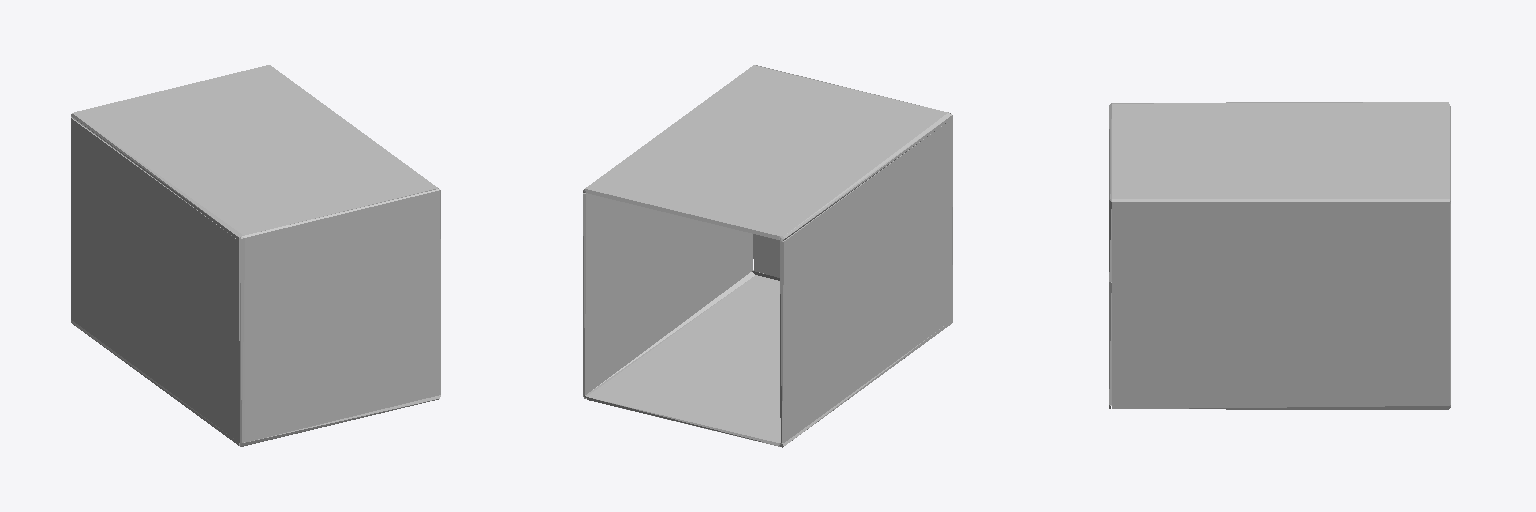
The model's file is bedside_table.obj.
The picture shows the model from 3 angles: view 1: azimuth 30°, elevation 25°; view 2: azimuth 150°, elevation 25°; view 3: azimuth 270°, elevation 25°; orthographic projection.
Visible parts, largest first — view 1: convex_10, convex_3, convex_4, convex_1, convex_7, convex_5, convex_2, convex_0, convex_11; view 2: convex_10, convex_3, convex_6, convex_12, convex_5, convex_7, convex_8, convex_11; view 3: convex_6, convex_3, convex_9, convex_8, convex_5, convex_4.
Part boxes in pixels (x1,y1,x2,y2): convex_10: (71,117,239,441); convex_3: (76,65,435,235); convex_4: (244,189,440,318); convex_1: (245,295,344,442); convex_7: (345,272,440,417); convex_5: (71,112,243,240); convex_2: (239,236,244,442); convex_0: (240,395,440,446); convex_11: (71,320,239,445); convex_10: (780,118,952,442); convex_3: (586,66,947,239); convex_6: (583,193,752,394); convex_12: (586,275,780,446); convex_5: (780,113,952,241); convex_7: (753,234,779,276); convex_8: (583,272,754,398); convex_11: (779,320,952,447); convex_6: (1112,204,1450,405); convex_3: (1112,104,1450,199); convex_9: (1112,198,1450,203); convex_8: (1112,405,1450,409); convex_5: (1112,102,1448,103); convex_4: (1109,104,1111,281).
Size of the model in its own units: 0.3141 by 0.3141 by 0.4617.